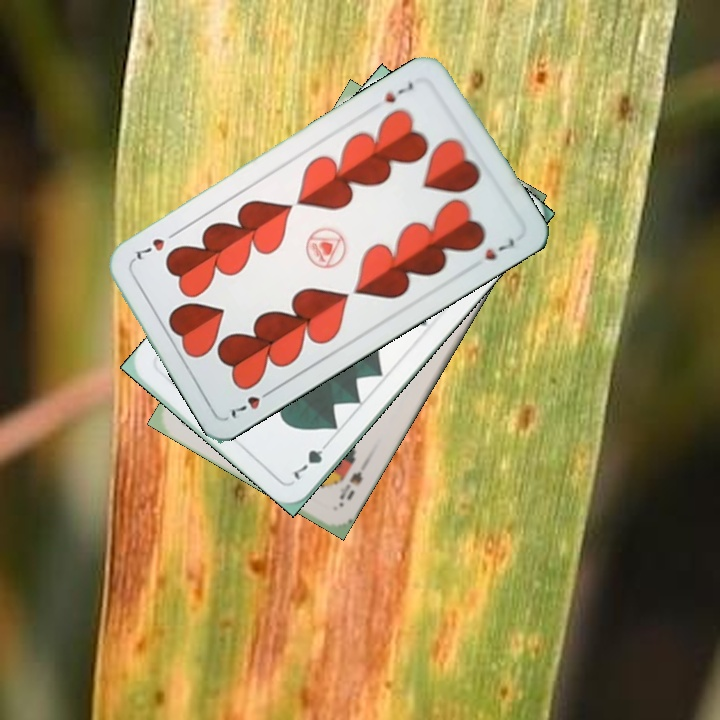G7: (289, 435, 334, 483)
H7: (227, 383, 278, 422), (378, 78, 416, 106)
SO: (335, 467, 365, 503)
